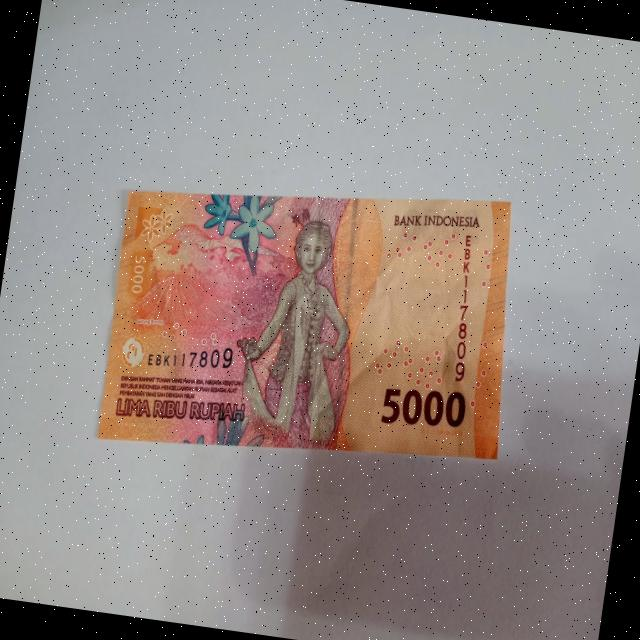5K: (80, 133, 546, 506)
